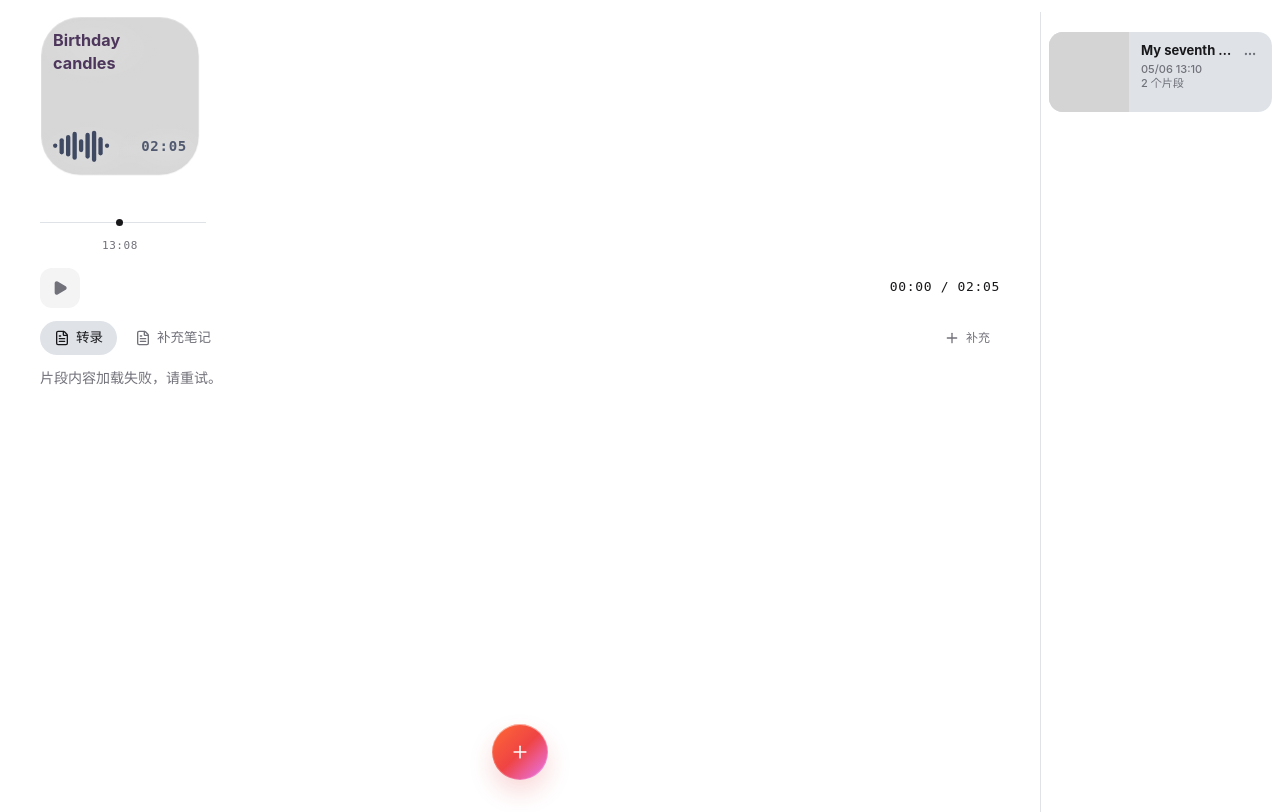
Test: LoadedWorkspaceFrame › renders generated note supplement speech above the supplement note editor
Click the tab "补充笔记" at x=166, y=338, box top-left (121, 321), bottom-right (211, 355)
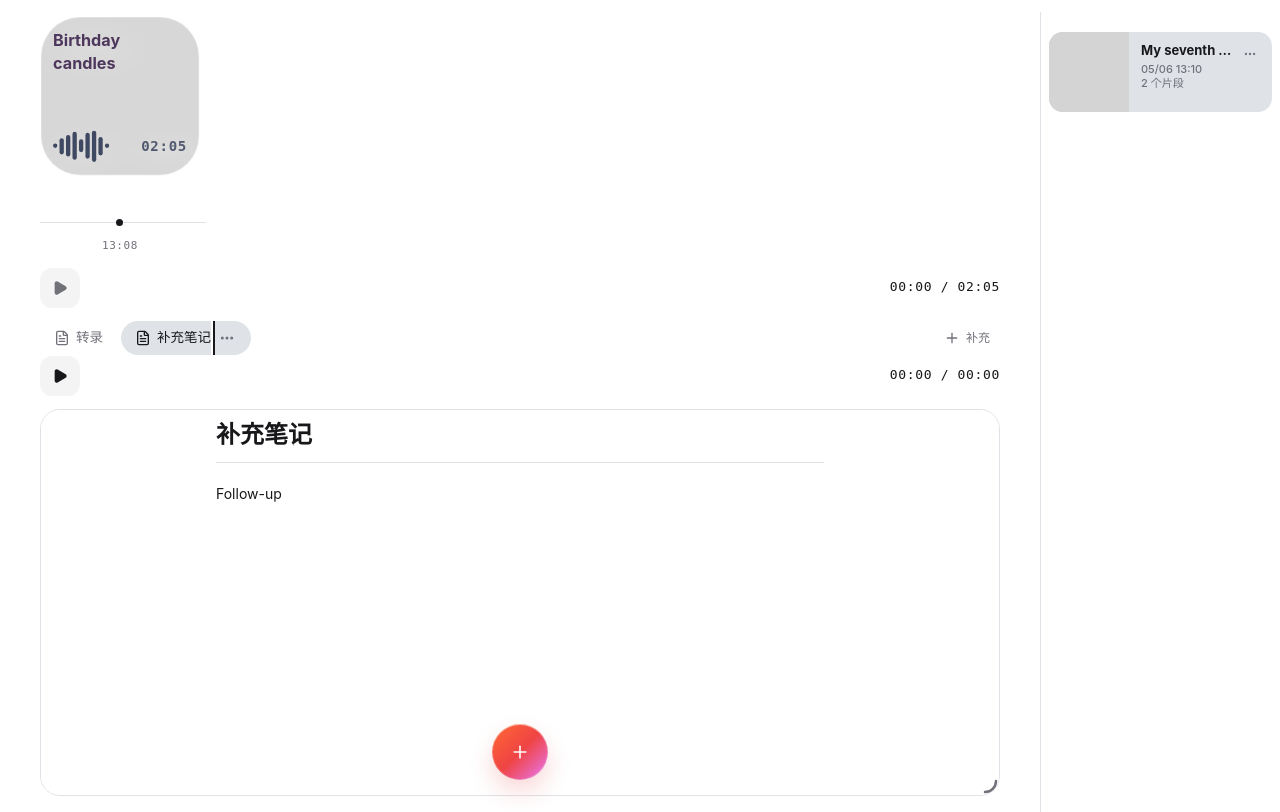
Expected: the button named "播放补充笔记语音 补充笔记" is shown, top-left (40, 356), bottom-right (80, 396)
Expected: the slider named "补充笔记语音播放进度" is shown, top-left (92, 355), bottom-right (878, 397)
